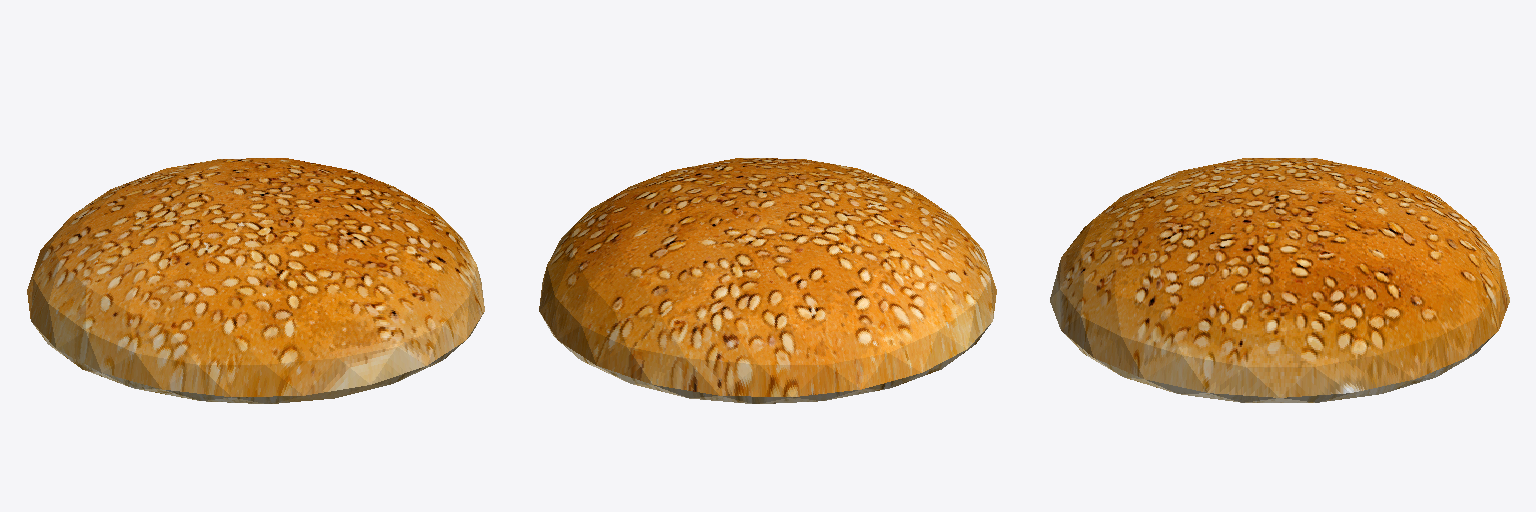
3 renders of one model, left to right at view 1: azimuth 30°, elevation 25°; view 2: azimuth 150°, elevation 25°; view 3: azimuth 270°, elevation 25°, orthographic.
Visible parts, largest first — view 1: Icosphere; view 2: Icosphere; view 3: Icosphere.
Boxes of the visible parts, x1,y1,x2,y2 form: Icosphere: [27, 158, 484, 403]; Icosphere: [539, 158, 996, 403]; Icosphere: [1050, 158, 1509, 402].
Size of the model in its own units: 2 by 0.5901 by 2.
1 materials, 1 textured.